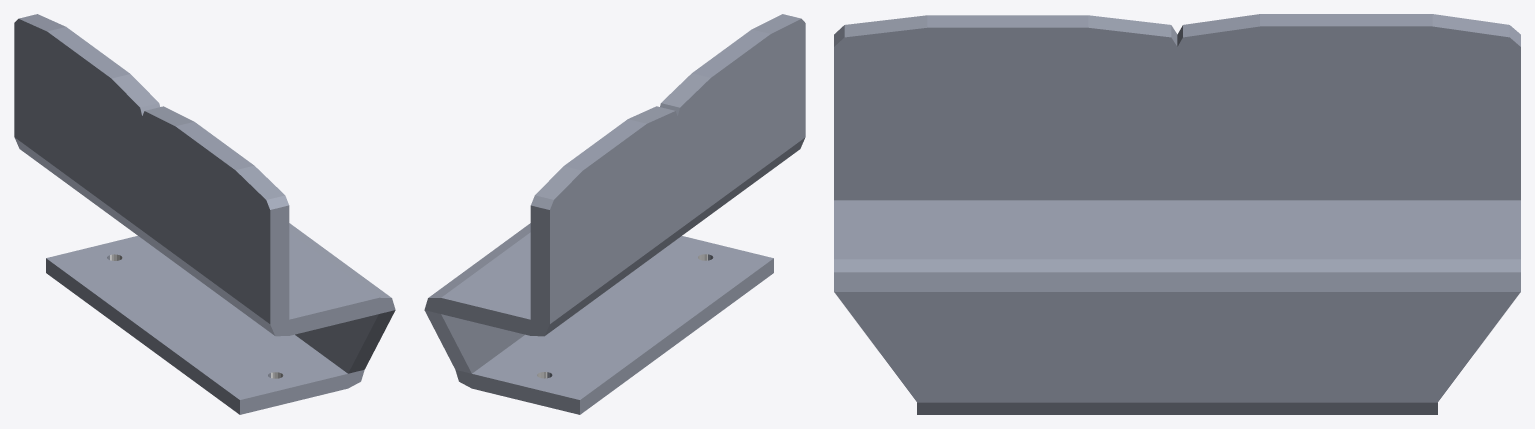
The model's file is SeatAssy.glb.
3 views of the same model, side by side, from view 1: azimuth 30°, elevation 25°; view 2: azimuth 150°, elevation 25°; view 3: azimuth 270°, elevation 25° (orthographic). The views are drawn at different scales.
Visible parts, largest first — view 1: SeatAssy; view 2: SeatAssy; view 3: SeatAssy.
Boxes of the visible parts, x1,y1,x2,y2 form: SeatAssy: (14,14,395,414); SeatAssy: (424,14,805,414); SeatAssy: (834,14,1520,414).
Bounding box in the file's own units: 0.9367 × 1.73 × 3.31.
Materials: 1 (1 with a texture image).
